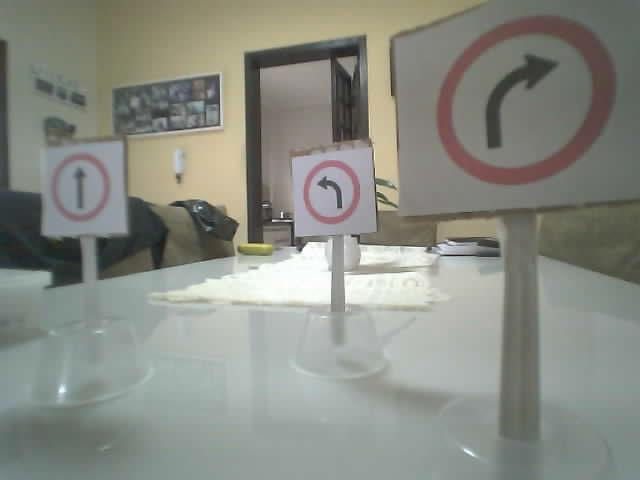R-25a_esquerda: (302, 158, 359, 223)
R-25b_direita: (433, 16, 611, 183)
R-26_frente: (50, 152, 109, 223)
